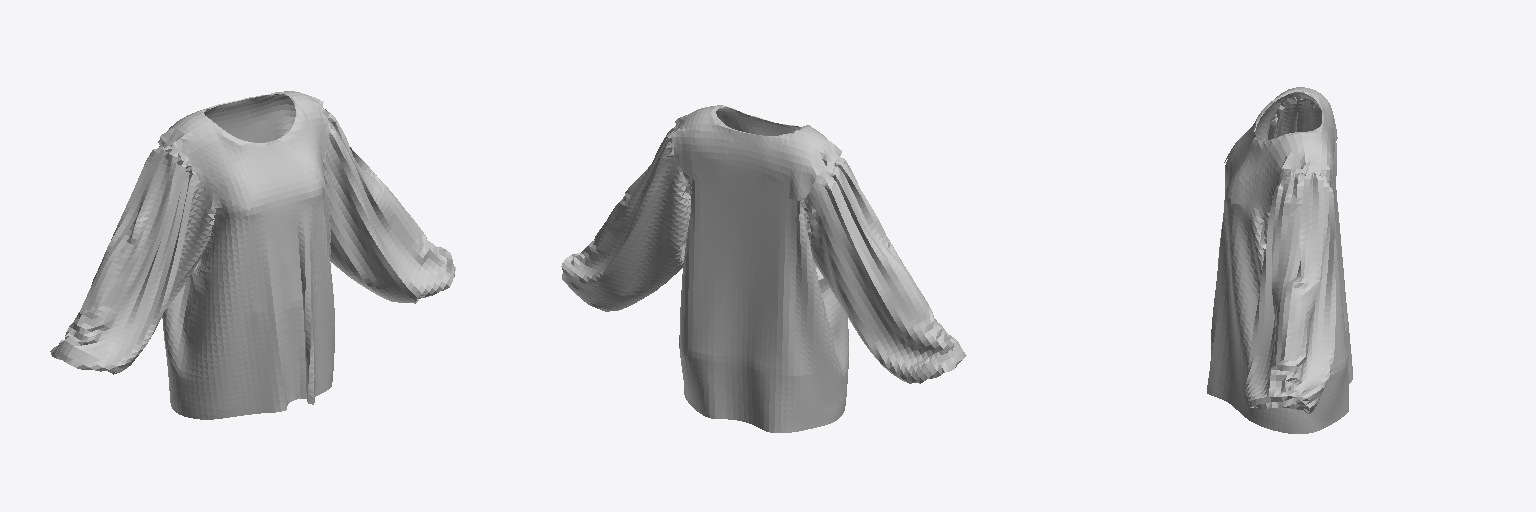
File: vyshyvanka.obj
The picture shows the model from 3 angles: view 1: azimuth 30°, elevation 25°; view 2: azimuth 150°, elevation 25°; view 3: azimuth 270°, elevation 25°; orthographic projection.
Bounding box in the file's own units: 1028 × 725 × 335.